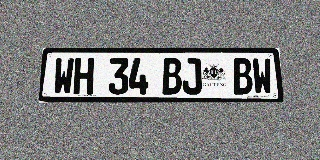3: (108, 58, 129, 95)
4: (129, 58, 148, 94)
B: (232, 58, 253, 94), (162, 58, 182, 94)
H: (73, 58, 94, 95)
J: (182, 58, 202, 94)
W: (53, 58, 74, 95), (252, 58, 273, 94)
